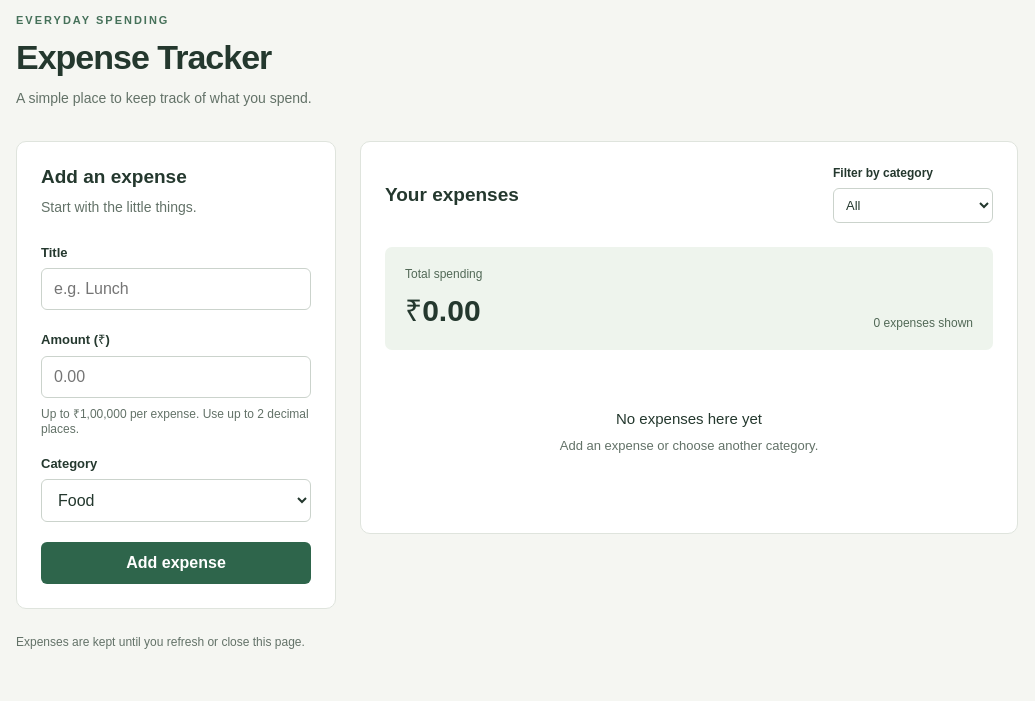
Test: Invalid input › rejects an empty title
This screenshot has width=1035, height=701.
Type "100" into the field with test id "amount" at (176, 377), box x1=41 y1=356 x2=311 y2=398
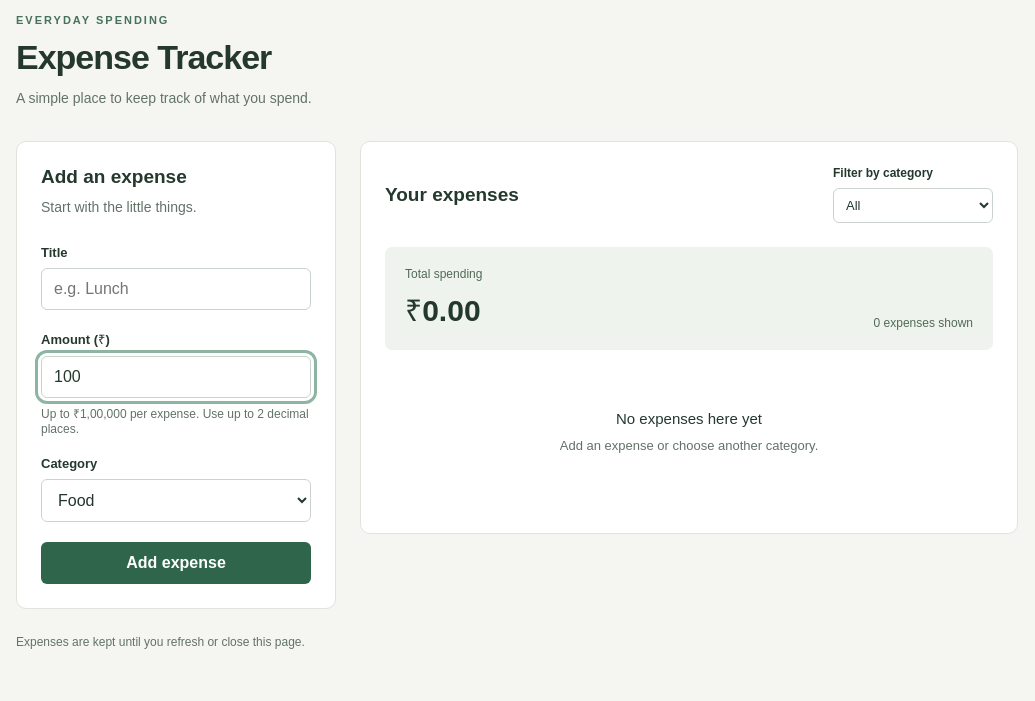
Click the button with test id "add-expense" at (176, 563), box x1=41 y1=542 x2=311 y2=584
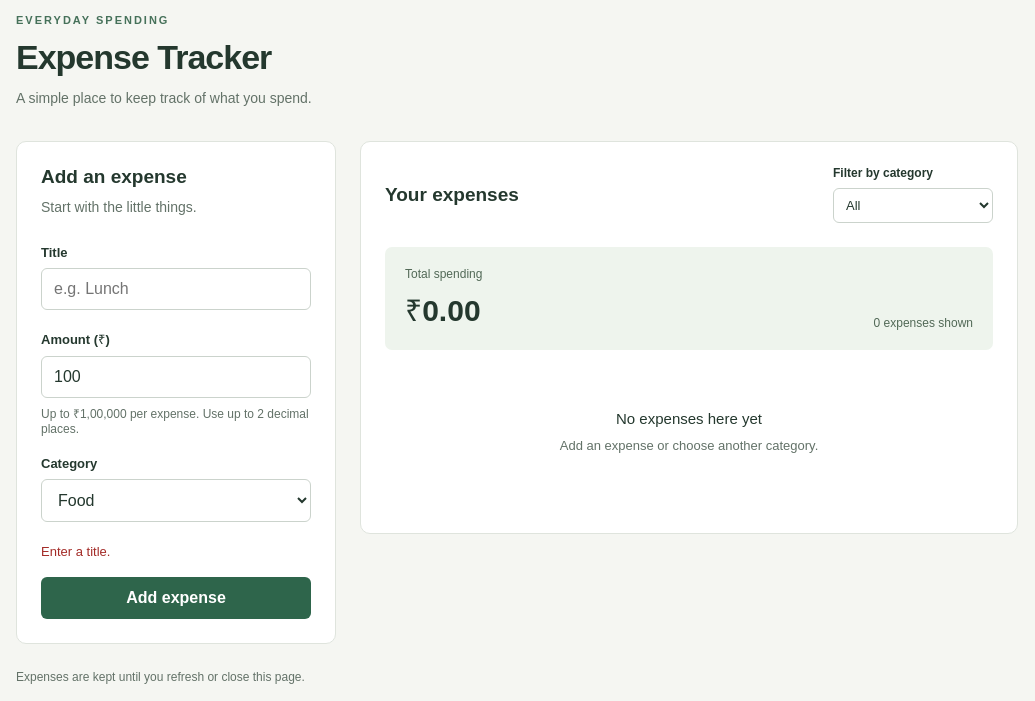
Expected: the text with test id "count" reads "0 expenses shown", x1=874 y1=316 x2=973 y2=330
Expected: the message with test id "error" reads "Enter a title.", x1=41 y1=544 x2=110 y2=559
